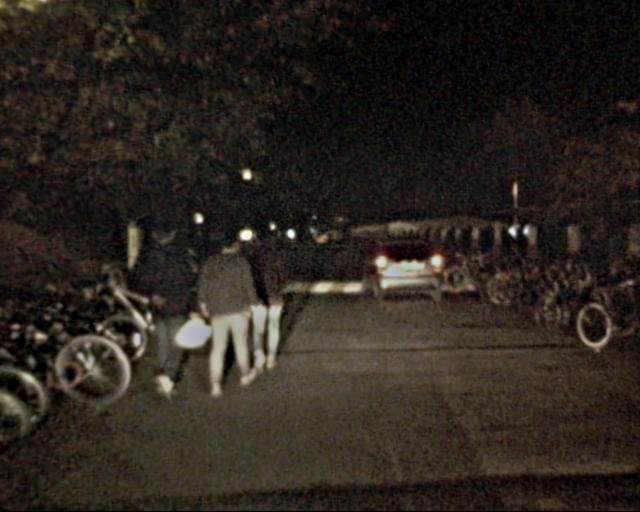person: (124, 218, 198, 398), (187, 226, 259, 399), (232, 222, 295, 368)
